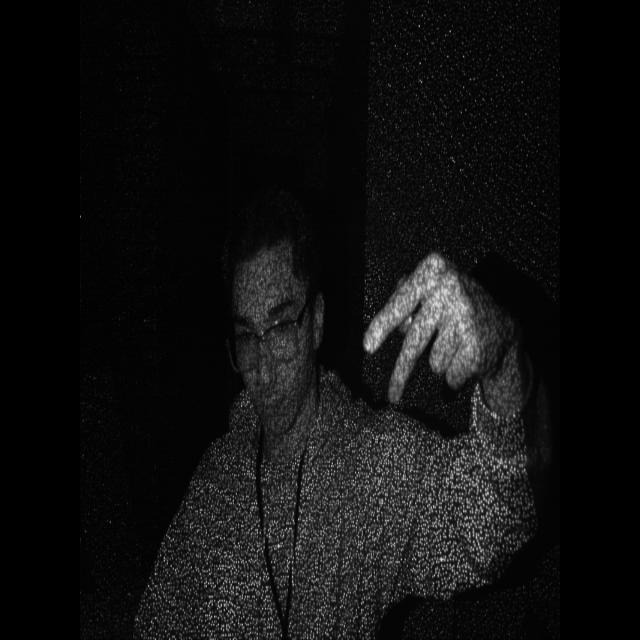P: (355, 234, 512, 420)
